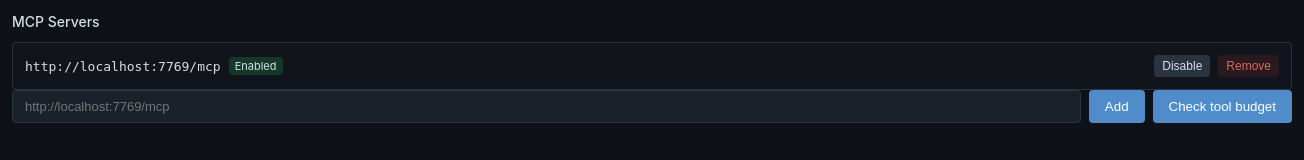
Test: McpTab › shows the tool count after checking the MCP budget
Click the button "Check tool budget" at (1222, 106), box [1152,90,1292,123]
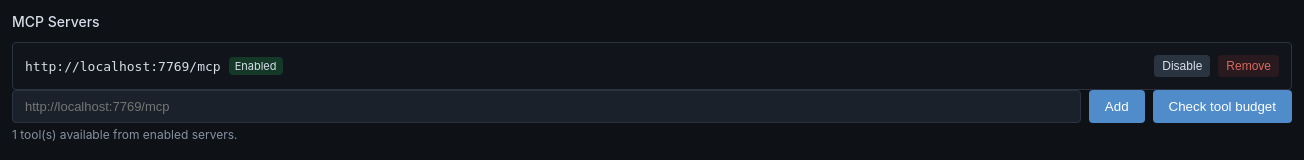
Expected: the text "1 tool(s) available from enabled servers." is shown, [12,127,238,142]
